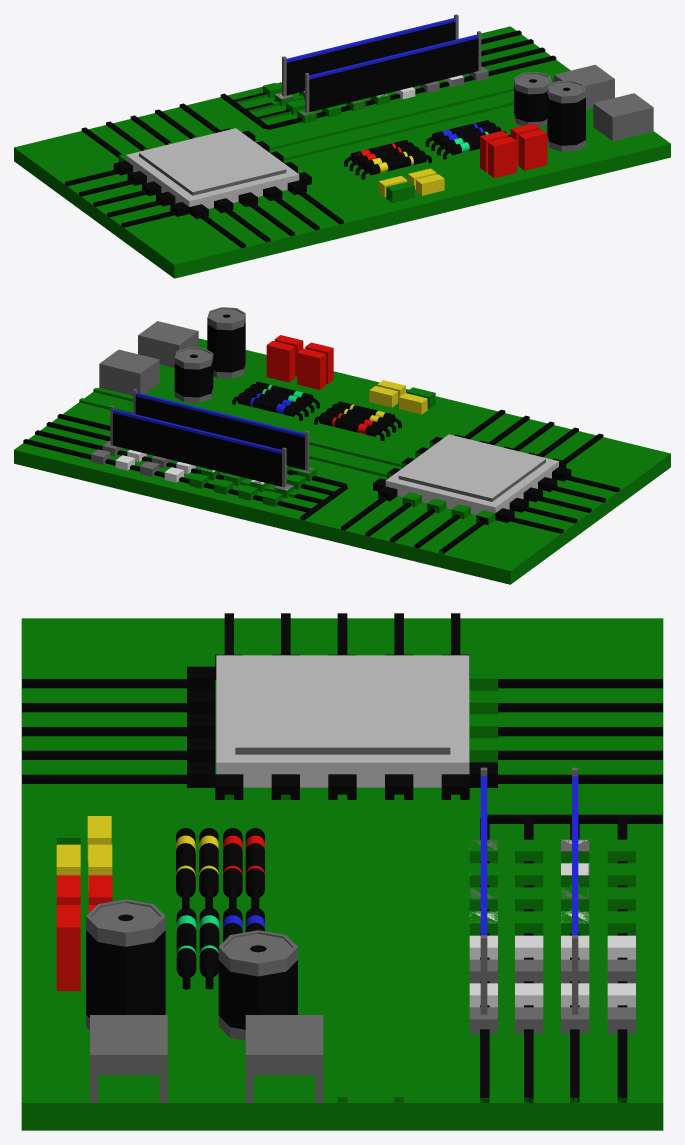
The model's file is circuitboard_element.fbx.
3 renders of one model, top to bottom at view 1: azimuth 30°, elevation 25°; view 2: azimuth 150°, elevation 25°; view 3: azimuth 270°, elevation 25°, orthographic. The views are drawn at different scales.
Visible parts, largest first — view 1: circuitboard_element; view 2: circuitboard_element; view 3: circuitboard_element.
Boxes of the visible parts, x1,y1,x2,y2 form: circuitboard_element: (14,14,670,278); circuitboard_element: (14,307,670,584); circuitboard_element: (21,613,663,1130).
Bounding box in the file's own units: 737 × 97.99 × 412.
